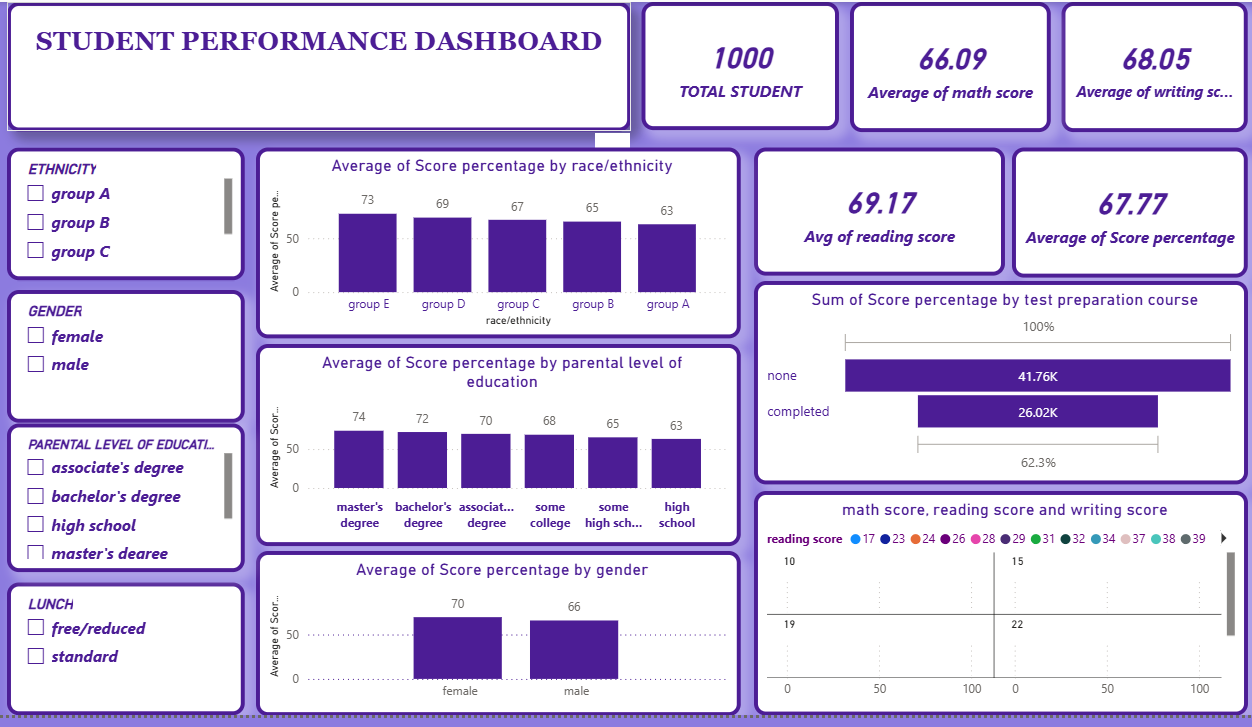

The dashboard page shown, as its layout file describes it:
{"tool":"powerbi","page":{"name":"Page 1","canvas":[1280,720],"ordinal":0},"visuals":[{"type":"slicer","fields":{"Values":["StudentsPerformance.race/ethnicity"]},"box":[15.1,147.4,240,134.2],"z":0},{"type":"textbox","box":[15.1,0,630,130.4],"z":1000},{"type":"card","fields":{"Values":["StudentsPerformance.TOTAL STUDENT"]},"box":[655.8,0,199.2,129.5],"z":2000},{"type":"card","fields":{"Values":["Avg(StudentsPerformance.writing score)"]},"box":[1080,0,187.8,131.2],"z":3000},{"type":"card","fields":{"Values":["Avg(StudentsPerformance.math score)"]},"box":[866.3,0,202.4,131.2],"z":4000},{"type":"card","fields":{"Values":["Avg(StudentsPerformance.reading score)"]},"box":[769.1,147.3,253,129.5],"z":5000},{"type":"slicer","fields":{"Values":["StudentsPerformance.gender"]},"box":[15.1,291,240,134.2],"z":6000},{"type":"slicer","fields":{"Values":["StudentsPerformance.lunch"]},"box":[15.1,585.8,240,134.2],"z":7000},{"type":"clusteredColumnChart","fields":{"Y":["Avg(StudentsPerformance.Score percentage)"],"Category":["StudentsPerformance.race/ethnicity"]},"box":[267.2,147.3,489,192.7],"z":8000},{"type":"clusteredColumnChart","fields":{"Y":["Avg(StudentsPerformance.Score percentage)"],"Category":["StudentsPerformance.parental level of education"]},"box":[267.2,344.9,489,204],"z":9000},{"type":"clusteredColumnChart","fields":{"Y":["Avg(StudentsPerformance.Score percentage)"],"Category":["StudentsPerformance.gender"]},"box":[267.2,553.8,489,166.8],"z":10000},{"type":"card","fields":{"Values":["Avg(StudentsPerformance.Score percentage)"]},"box":[1029.8,147.3,238,131.2],"z":11000},{"type":"funnel","fields":{"Category":["StudentsPerformance.test preparation course"],"Y":["Sum(StudentsPerformance.Score percentage)"]},"box":[769.1,281.7,498.7,205.6],"z":12000},{"type":"ribbonChart","fields":{"Category":["StudentsPerformance.math score"],"Series":["StudentsPerformance.reading score"],"Rows":["StudentsPerformance.writing score"]},"box":[769.1,493.9,498.7,226.7],"z":13000},{"type":"slicer","fields":{"Values":["StudentsPerformance.parental level of education"]},"box":[15,425,240,150],"z":14000}]}

Visuals, with their boxes in screenshot pixels (x1, y1, x2, y2):
slicer - StudentsPerformance.race/ethnicity: [0,144,239,278]
textbox: [0,0,629,127]
card - StudentsPerformance.TOTAL STUDENT: [640,0,839,126]
card - Avg(StudentsPerformance.writing score): [1064,0,1251,128]
card - Avg(StudentsPerformance.math score): [850,0,1052,128]
card - Avg(StudentsPerformance.reading score): [753,144,1006,274]
slicer - StudentsPerformance.gender: [0,288,239,422]
slicer - StudentsPerformance.lunch: [0,583,239,717]
clusteredColumnChart - Avg(StudentsPerformance.Score percentage) x StudentsPerformance.race/ethnicity: [251,144,740,337]
clusteredColumnChart - Avg(StudentsPerformance.Score percentage) x StudentsPerformance.parental level of education: [251,342,740,546]
clusteredColumnChart - Avg(StudentsPerformance.Score percentage) x StudentsPerformance.gender: [251,551,740,717]
card - Avg(StudentsPerformance.Score percentage): [1014,144,1251,275]
funnel - StudentsPerformance.test preparation course x Sum(StudentsPerformance.Score percentage): [753,278,1251,484]
ribbonChart - StudentsPerformance.math score x StudentsPerformance.reading score: [753,491,1251,717]
slicer - StudentsPerformance.parental level of education: [0,422,239,572]
